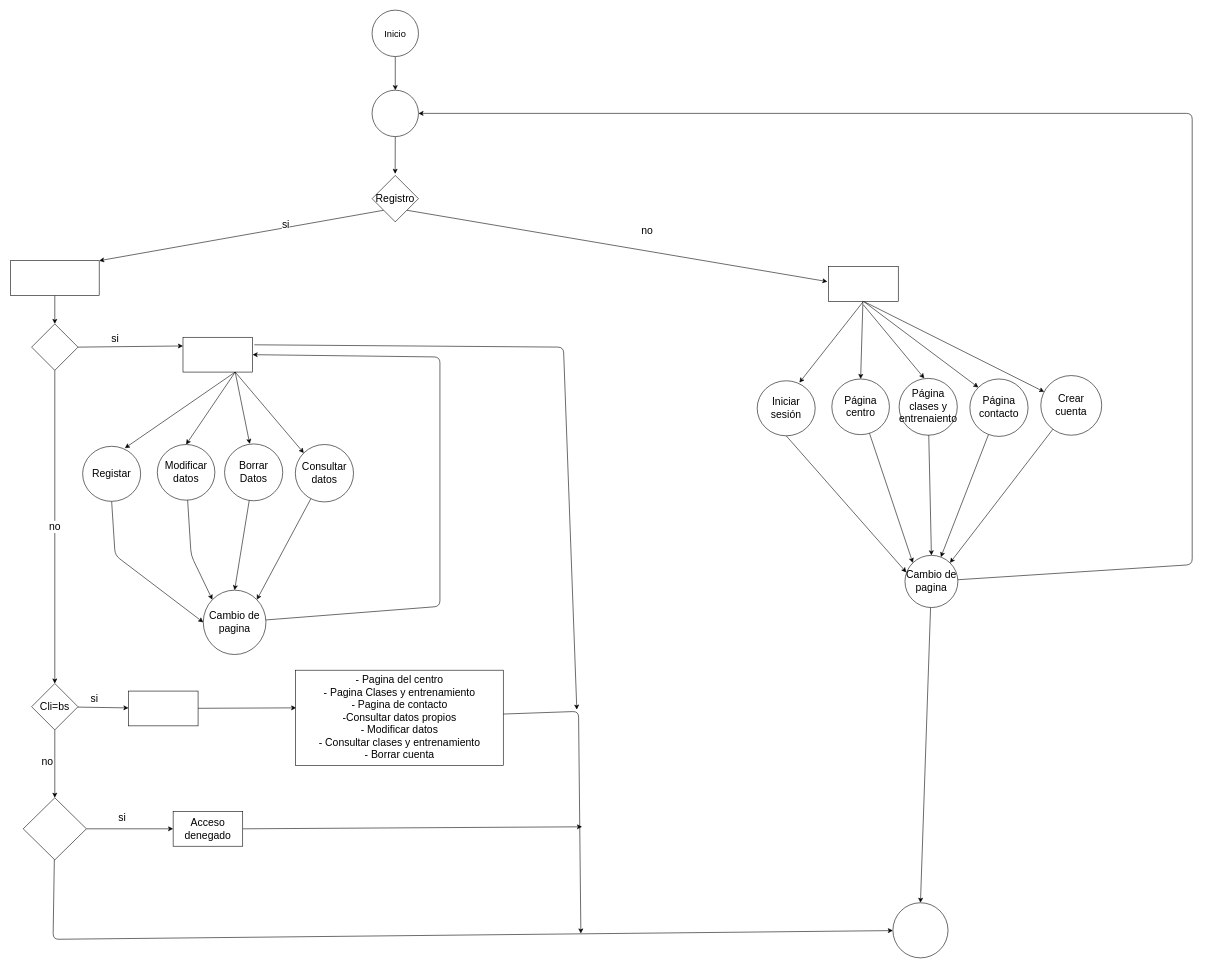
Some shapes in this 1207 by 968 pixel diagram are drawn without their labels. Here are the shapes that lost their labels. From the top down, the box of each, then its label:
(371, 90, 418, 137): pagina web
(10, 260, 99, 296): ad= administrador Cli=usuario bs= base de datos
(828, 266, 898, 301): Cliente sin registro
(31, 323, 78, 370): ad=bs
(182, 337, 253, 372): Pagina administrador
(128, 690, 198, 726): Cliente registrado
(23, 797, 86, 860): Cli != bs ad != bs
(892, 902, 948, 958): Fin
